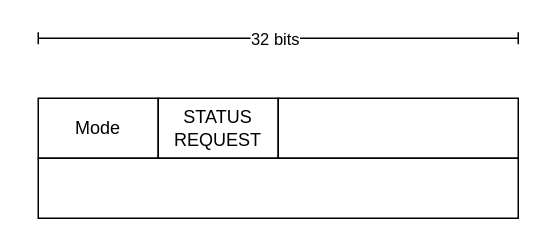
Image size: 558x245. Some labels were removed from this diagram. The centre of each missing label's shape, as x and y in pixels:
"Task Id" goes at (x=277, y=187).
"Unused" goes at (x=397, y=127).
